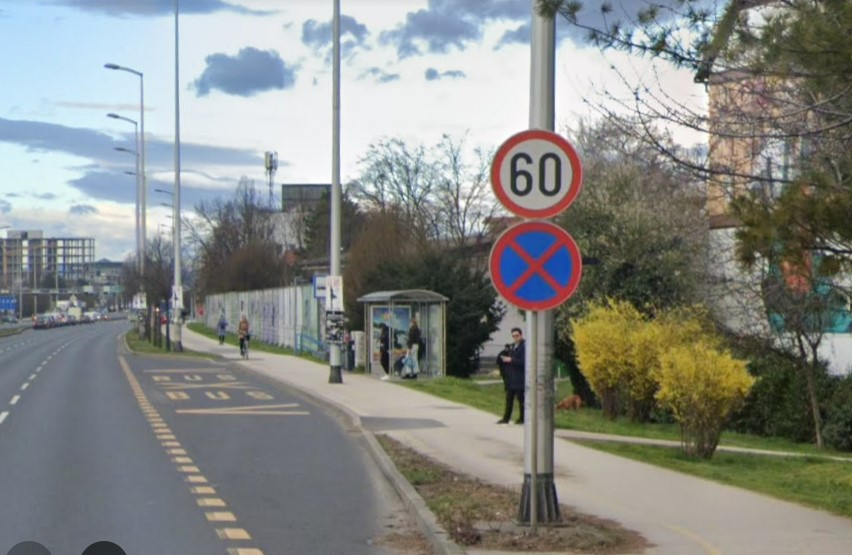Ograničenje brzine 60: (491, 129, 583, 219)
